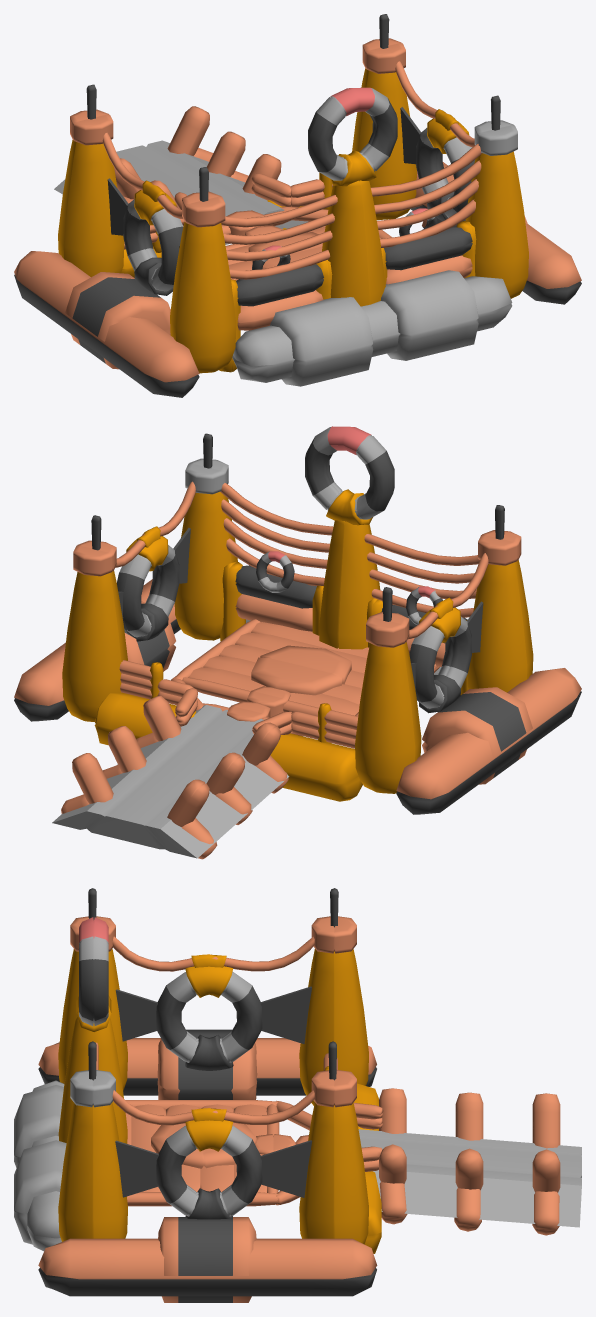
File: TestFBXINGAME.fbx
3 renders of one model, top to bottom at view 1: azimuth 30°, elevation 25°; view 2: azimuth 150°, elevation 25°; view 3: azimuth 270°, elevation 25°, orthographic. The views are drawn at different scales.
Parts seen in each view (by area): view 1: pCube13, pCube5, pCube2, pCube169, pCube170, pCube158, pCube155, pCube219, polySurface1, pCube171, pCube209, pCube165 (+28 smaller); view 2: pCube209, pCube13, pCube2, pCube165, pCube5, pCube158, pCube219, polySurface1, pCube171, pCube167, pCube238, pTorus2 (+41 smaller); view 3: pCube173, pCube209, pCube165, pCube158, pCube2, pCube172, pCube13, pTorus1, pTorus2, pCube171, polySurface1, pCube219 (+36 smaller).
Part boxes in pixels (x1,y1,x2,y2): pCube13: (14, 251, 199, 397); pCube5: (170, 222, 236, 373); pCube2: (58, 140, 124, 277); pCube169: (270, 297, 373, 386); pCube170: (380, 270, 478, 360); pCube158: (465, 151, 528, 298); pCube155: (232, 276, 512, 382); pCube219: (322, 180, 385, 306); polySurface1: (308, 87, 397, 180); pCube171: (65, 272, 170, 369); pCube209: (54, 140, 308, 244); pCube165: (352, 68, 416, 220); pCube209: (52, 705, 289, 858); pCube13: (396, 668, 581, 814); pCube2: (355, 642, 421, 793); pCube165: (62, 571, 127, 721); pCube5: (467, 560, 533, 692); pCube158: (174, 492, 237, 640); pCube219: (319, 520, 380, 649); polySurface1: (305, 426, 394, 519); pCube171: (422, 687, 532, 784); pCube167: (270, 733, 362, 801); pCube238: (251, 645, 351, 695); pTorus2: (117, 545, 179, 637); pCube173: (38, 1238, 377, 1296); pCube209: (358, 1129, 581, 1227); pCube165: (299, 1102, 368, 1244); pCube158: (58, 1102, 127, 1241); pCube2: (299, 949, 368, 1105); pCube172: (158, 1217, 256, 1302); pCube13: (38, 1038, 376, 1095); pTorus1: (156, 971, 262, 1062); pTorus2: (156, 1125, 262, 1216); pCube171: (157, 1029, 257, 1099); polySurface1: (79, 917, 108, 1026); pCube219: (58, 1017, 127, 1143).
Size of what is drawn, in the model's own units: 20.97 by 12.28 by 22.35.
